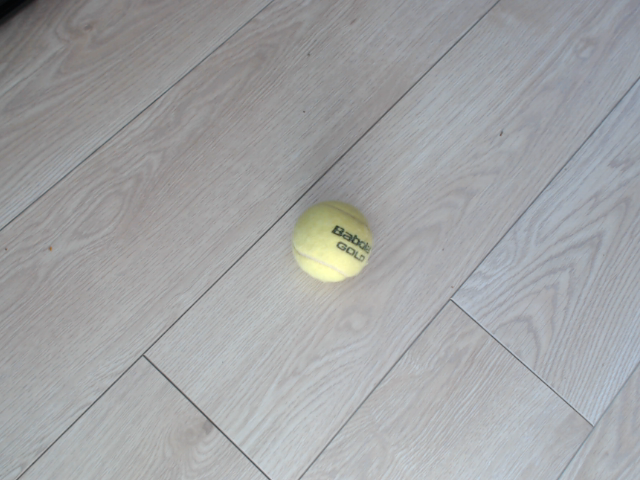ball: (290, 198, 376, 286)
